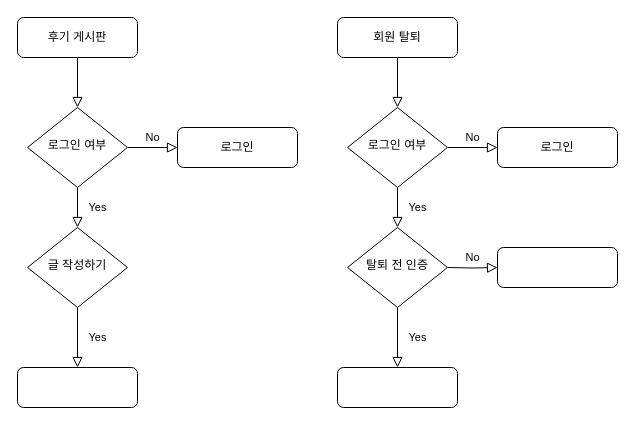
Image size: 635x425. Some labels were removed from this diagram. Here are the shapes that lost their labels. From the top down, the centre of each, then its label:
At pixel 557 267: "재인증".
At pixel 77 387: "목록에 등록".
At pixel 397 387: "탈퇴 완료".
